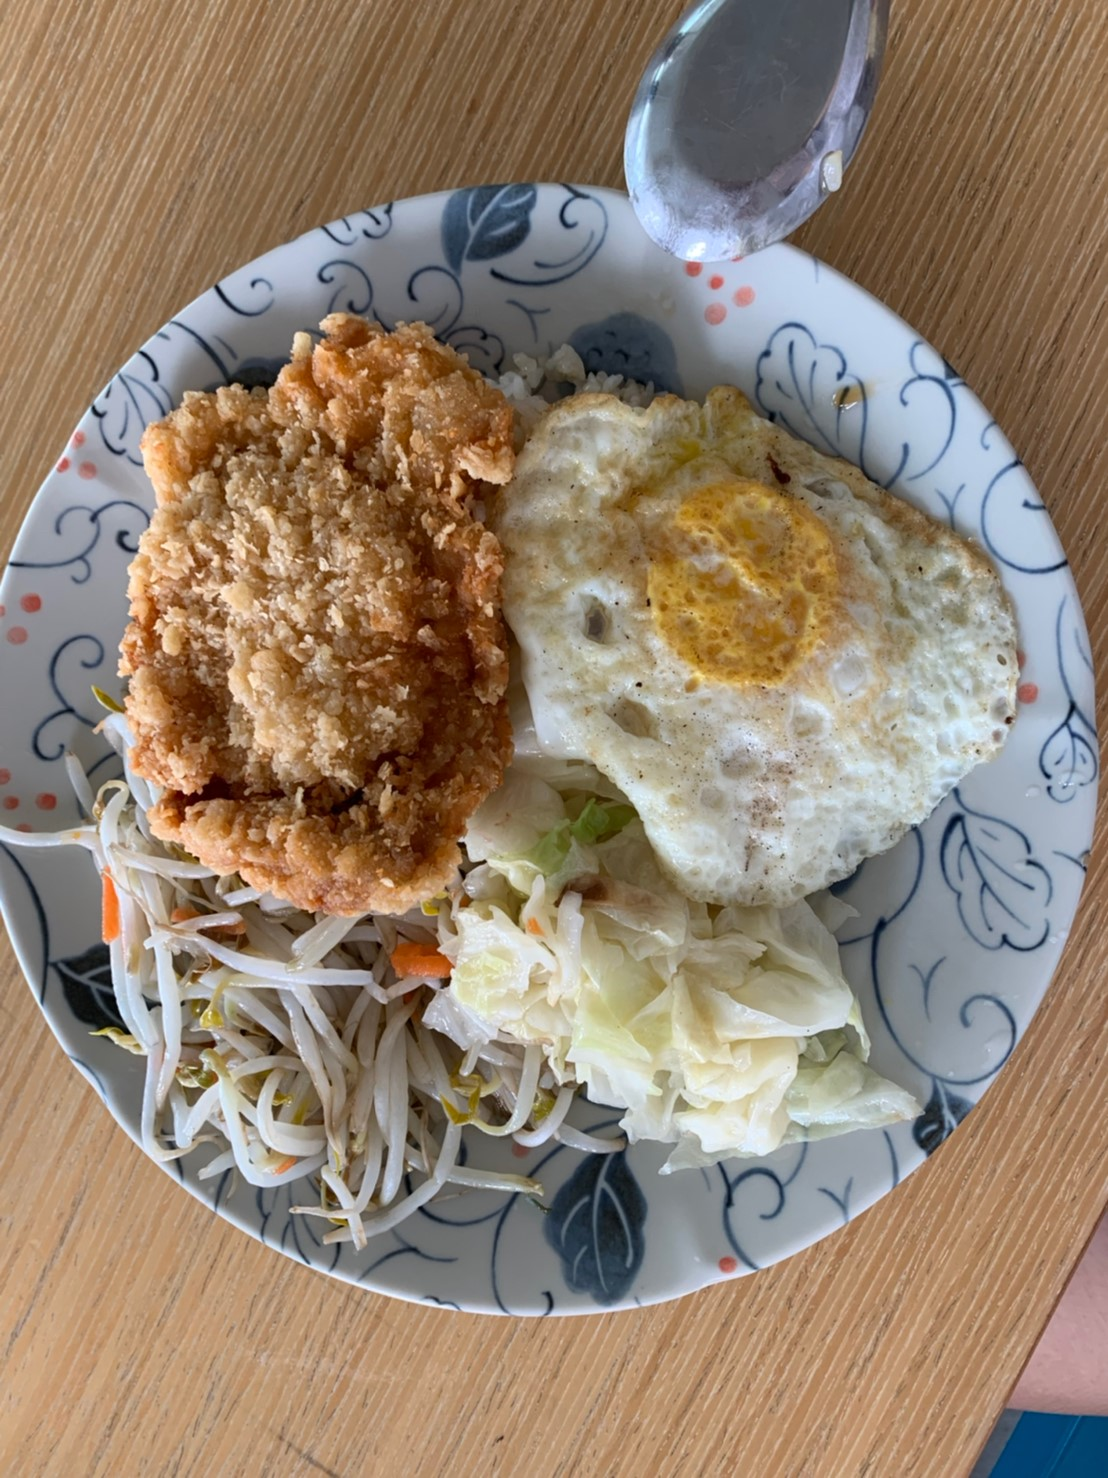chinese_cabbage: (459, 822, 904, 1143)
fried_chicken: (126, 310, 519, 893)
fried_eggs: (516, 383, 1018, 891)
mung_bean_sprouts: (118, 908, 436, 1229)
